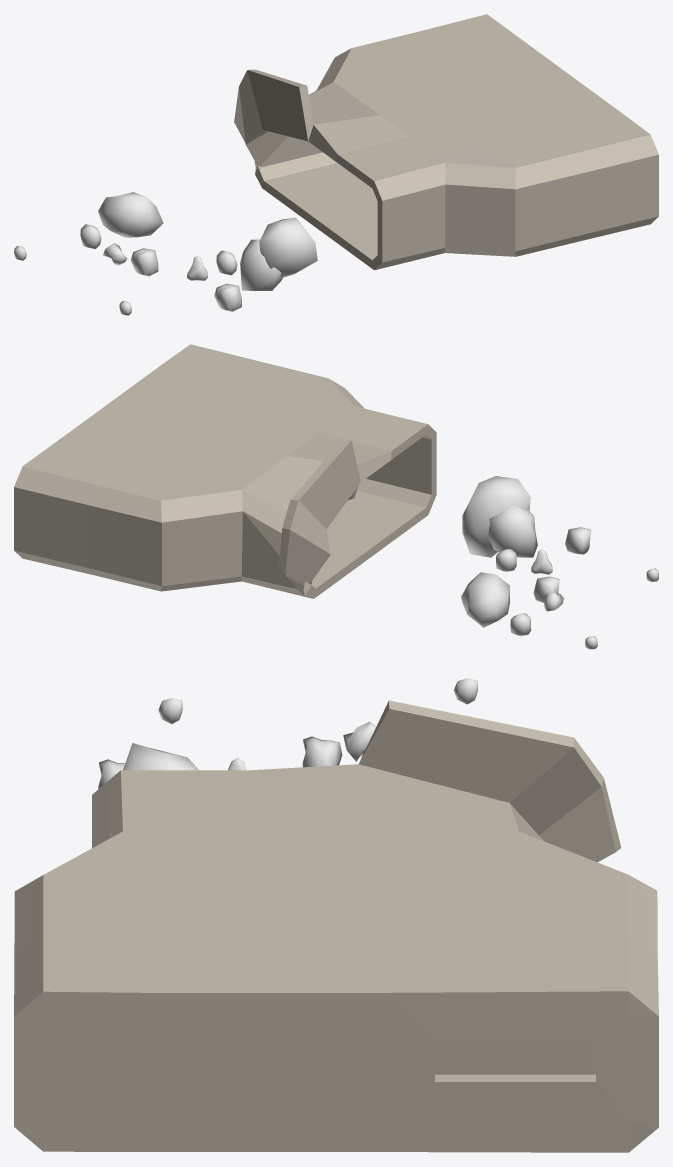
The model's file is Ship.glb.
The picture shows the model from 3 angles, top to bottom: view 1: azimuth 30°, elevation 25°; view 2: azimuth 150°, elevation 25°; view 3: azimuth 270°, elevation 25°; orthographic projection. The views are drawn at different scales.
Parts seen in each view (by area): view 1: Ship-col, rock-col, rock.001-col, Ship-lights-col.001, rock.006-col, rock.002, rock.006; view 2: Ship-col, rock-col, rock.001-col, rock.006-col, Ship-lights-col.001, rock.006, rock.002; view 3: Ship-col, Windsheild-col, rock-col, Ship-lights-col.001, rock.002, rock.005.
Part boxes in pixels (x1,y1,x2,y2): Ship-col: (234,14,658,270); rock-col: (259,217,317,277); rock.001-col: (98,192,163,237); Ship-lights-col.001: (264,54,578,266); rock.006-col: (240,239,283,290); rock.002: (130,248,158,276); rock.006: (214,283,241,311); Ship-col: (14,344,436,598); rock-col: (462,476,530,557); rock.001-col: (461,572,509,627); rock.006-col: (488,505,537,557); Ship-lights-col.001: (96,384,425,593); rock.006: (565,527,591,554); rock.002: (533,576,559,602); Ship-col: (14,700,658,1152); Windsheild-col: (435,1037,595,1074); rock-col: (123,743,198,770); Ship-lights-col.001: (25,783,646,939); rock.002: (302,736,342,767); rock.005: (343,721,375,761).
Size of the model in its own units: 30.14 by 7.53 by 18.22.
